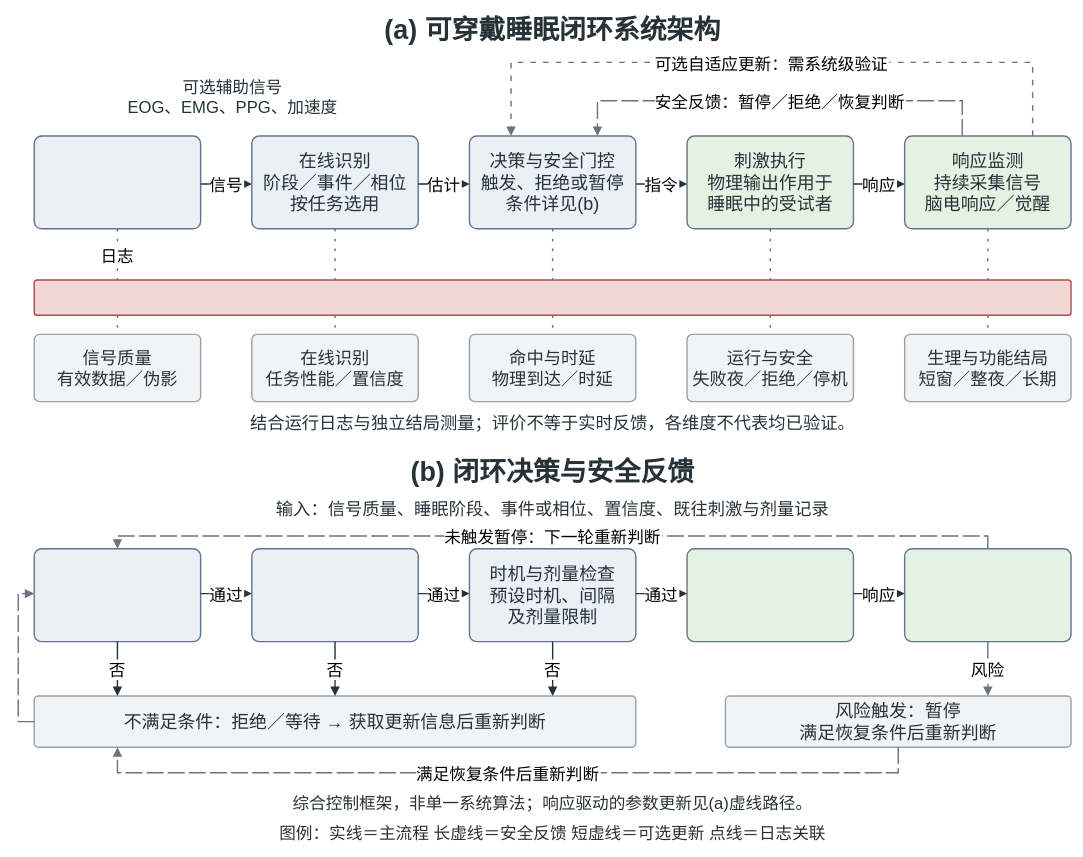
This 1083x857 diagram has some shape labels left out. Each missing label, with the centre of its shape:
"准入检查 质量与状态 是否满足条件？" belongs at [117,595].
"刺激后检查 觉醒与信号状态 决定暂停或重判" belongs at [987,595].
"独立记录与验证层：本文组织的评价维度" belongs at [552,297].
"生成刺激指令 执行刺激 持续监测响应" belongs at [770,595].
"目标条件检查 按范式选用 阶段／事件／相位" belongs at [335,595].
"采集与质控 EEG主信号 因果处理与质控" belongs at [117,182].
